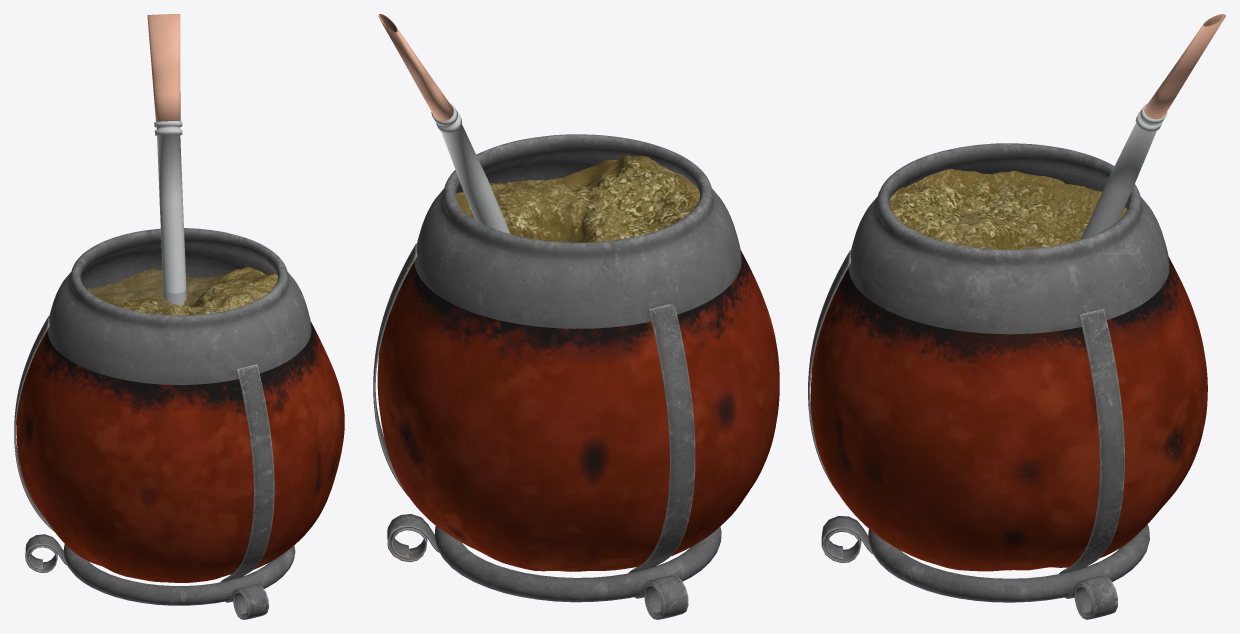
File: mate-v2.glb
3 renders of one model, left to right at view 1: azimuth 30°, elevation 25°; view 2: azimuth 150°, elevation 25°; view 3: azimuth 270°, elevation 25°, orthographic. The views are drawn at different scales.
Parts seen in each view (by area): view 1: polySurface12_Mate_0, polySurface8_Mate_0, polySurface16_Mate_0, polySurface6_Mate_0, polySurface15_Mate_0, polySurface10_Mate_0, polySurface14_Mate_0; view 2: polySurface12_Mate_0, polySurface8_Mate_0, polySurface16_Mate_0, polySurface6_Mate_0, polySurface15_Mate_0, polySurface14_Mate_0; view 3: polySurface12_Mate_0, polySurface8_Mate_0, polySurface16_Mate_0, polySurface6_Mate_0, polySurface15_Mate_0, polySurface14_Mate_0.
Part boxes in pixels (x1,y1,x2,y2): polySurface12_Mate_0: (16,321,344,582); polySurface8_Mate_0: (47,228,311,384); polySurface16_Mate_0: (14,316,295,619); polySurface6_Mate_0: (86,267,277,315); polySurface15_Mate_0: (154,121,186,305); polySurface10_Mate_0: (84,266,230,309); polySurface14_Mate_0: (147,14,180,121); polySurface12_Mate_0: (377,250,779,571); polySurface8_Mate_0: (414,134,741,328); polySurface16_Mate_0: (373,243,721,619); polySurface6_Mate_0: (456,155,699,242); polySurface15_Mate_0: (431,103,510,233); polySurface14_Mate_0: (378,14,453,120); polySurface12_Mate_0: (811,256,1207,571); polySurface8_Mate_0: (848,143,1169,334); polySurface16_Mate_0: (808,250,1149,619); polySurface6_Mate_0: (889,169,1127,249); polySurface15_Mate_0: (1081,103,1167,239); polySurface14_Mate_0: (1144,14,1225,119).
Bounding box in the file's own units: 1.25 × 2 × 1.31.
Materials: 2 (2 with a texture image).
